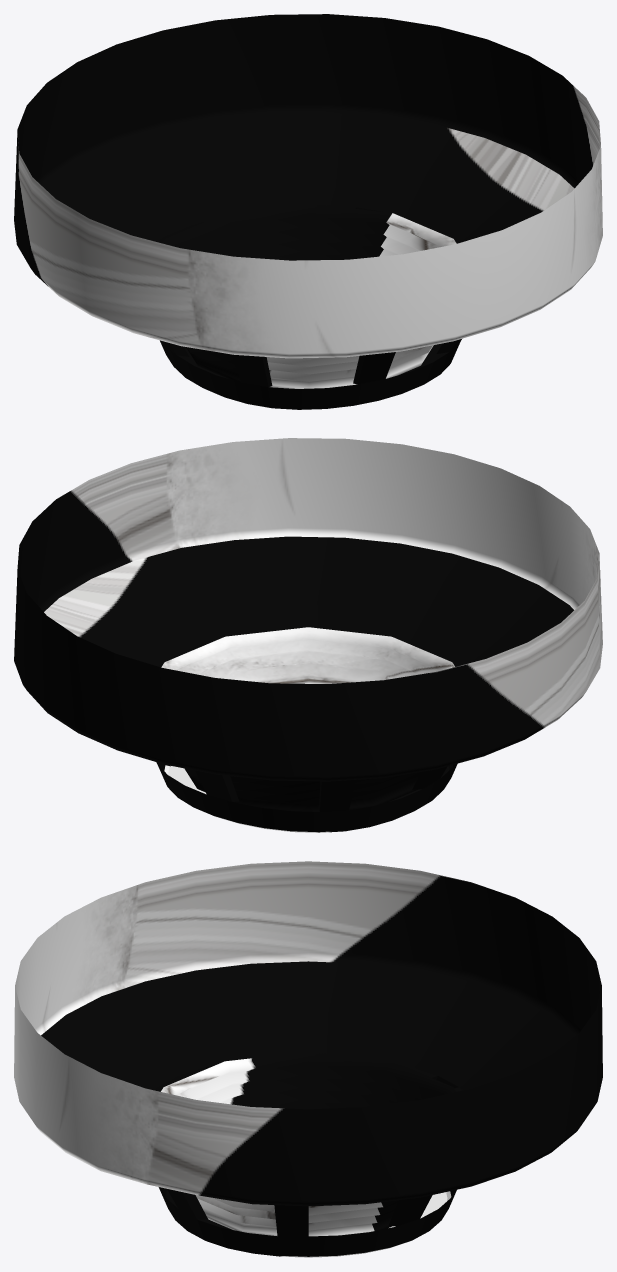
The model's file is fireDetector.fbx.
3 views of the same model, one above another, from view 1: azimuth 30°, elevation 25°; view 2: azimuth 150°, elevation 25°; view 3: azimuth 270°, elevation 25° (orthographic).
Visible parts, largest first — view 1: fireDetector2, fireDetector1; view 2: fireDetector2, fireDetector1; view 3: fireDetector2, fireDetector1.
Part boxes in pixels (box(x1,y1,x2,y2)): fireDetector2: box(14, 14, 602, 409); fireDetector1: box(162, 203, 456, 388); fireDetector2: box(14, 438, 602, 832); fireDetector1: box(161, 627, 454, 811); fireDetector2: box(14, 861, 602, 1257); fireDetector1: box(161, 1052, 455, 1236).
Size of the model in its own units: 17.22 by 6.89 by 17.22.
Materials: 1 (1 with a texture image).
